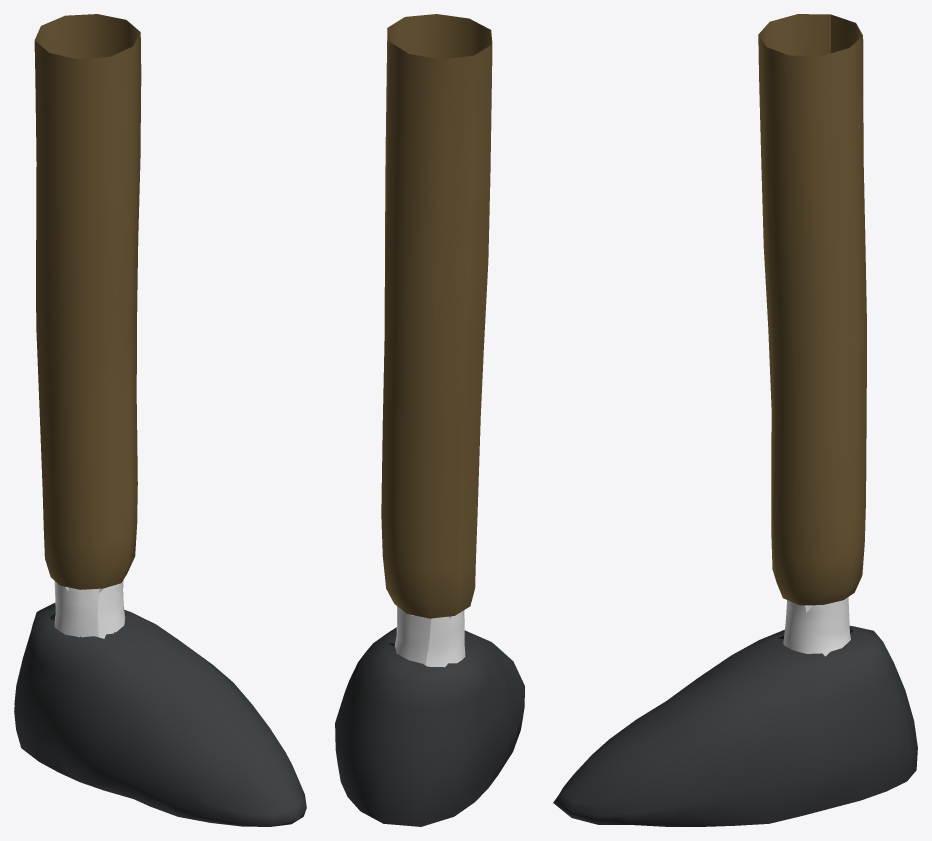
The model's file is RodillaIzq.obj.
3 views of the same model, side by side, from view 1: azimuth 30°, elevation 25°; view 2: azimuth 150°, elevation 25°; view 3: azimuth 270°, elevation 25° (orthographic). The views are drawn at different scales.
Parts seen in each view (by area): view 1: RodillaIzq_Mesh_Body_0.008; view 2: RodillaIzq_Mesh_Body_0.008; view 3: RodillaIzq_Mesh_Body_0.008.
Part boxes in pixels (x1=…): RodillaIzq_Mesh_Body_0.008: x1=14, y1=14, x2=306, y2=826; RodillaIzq_Mesh_Body_0.008: x1=335, y1=14, x2=524, y2=826; RodillaIzq_Mesh_Body_0.008: x1=553, y1=14, x2=917, y2=826.
Bounding box in the file's own units: 0.1244 × 0.5016 × 0.2249.
1 material, 1 textured.
